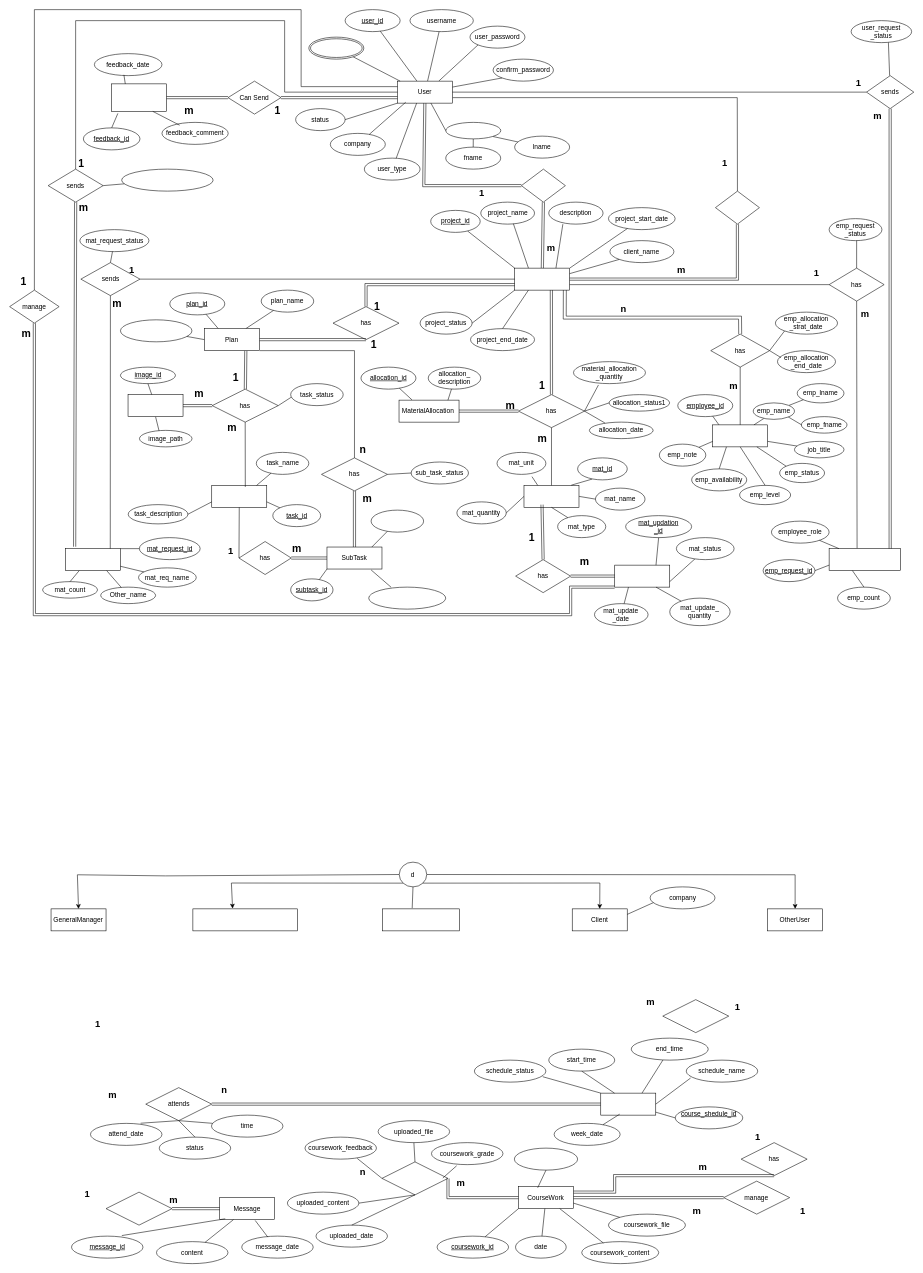
Some shapes in this 923 by 1273 pixel diagram are drawn without their labels. Here are the shapes that lost their labels. From the top down, the centre of each, then its label:
At [336,48]: "mobile".
At [139,97]: "Feedback".
At [473,130]: "name".
At [167,180]: "user_mat_request_status".
At [543,185]: "owns".
At [737,207]: "allocates for".
At [542,279]: "Project".
At [156,330]: "plan_description".
At [155,405]: "Images".
At [740,435]: "Employee".
At [239,496]: "MainTask".
At [551,496]: "Material".
At [397,521]: "subtask_name".
At [92,559]: "MaterialRequest".
At [642,576]: "MaterialUpdation".
At [865,559]: "EmpoyeeRequest".
At [407,598]: "sub_description".
At [244,919]: "SeniorProjectManager".
At [421,919]: "ResourceManager".
At [695,1016]: "send".
At [628,1104]: "CourseShedule".
At [414,1178]: "submit".
At [546,1159]: "deadline".
At [138,1208]: "adds".
